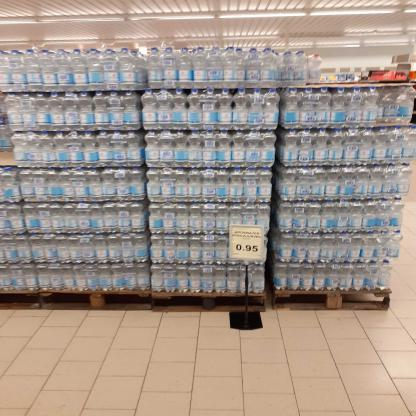prtg: (231, 228, 263, 259)
